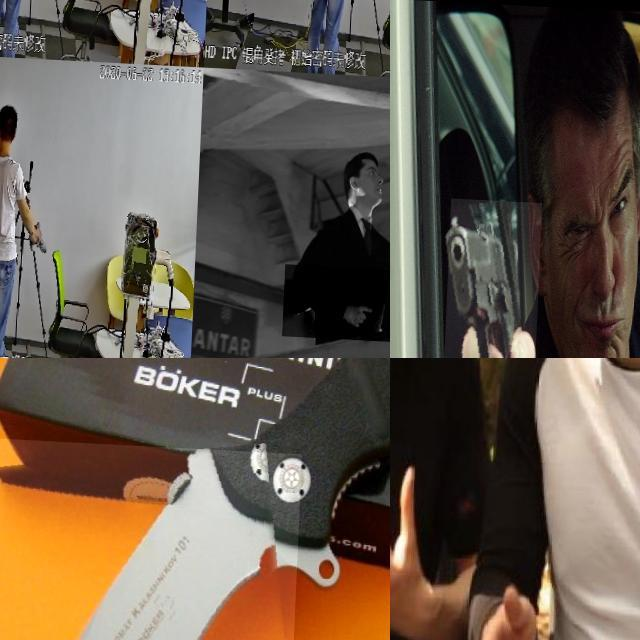-: (0, 437, 304, 640), (390, 394, 435, 575)
gun-knife-thesis - v11 Yolov5 augmented: (442, 196, 543, 358), (287, 259, 390, 339), (32, 216, 53, 251), (59, 0, 82, 17), (379, 0, 390, 16)
